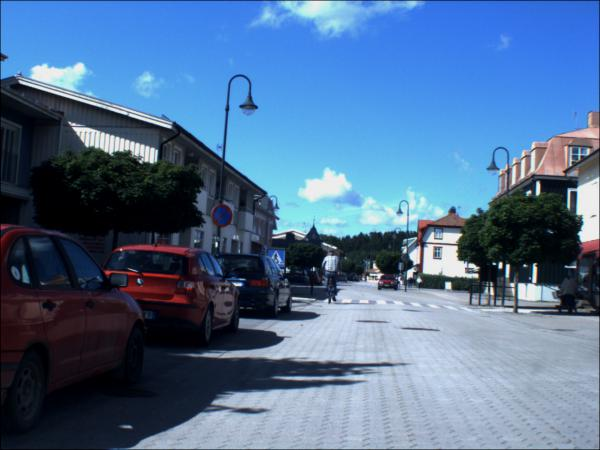NO_PARKING: (211, 205, 233, 230)
PEDESTRIAN_CROSSING: (265, 249, 286, 269)
